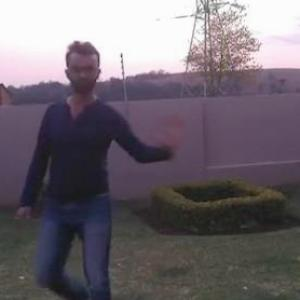follow_hand: (158, 106, 192, 151)
